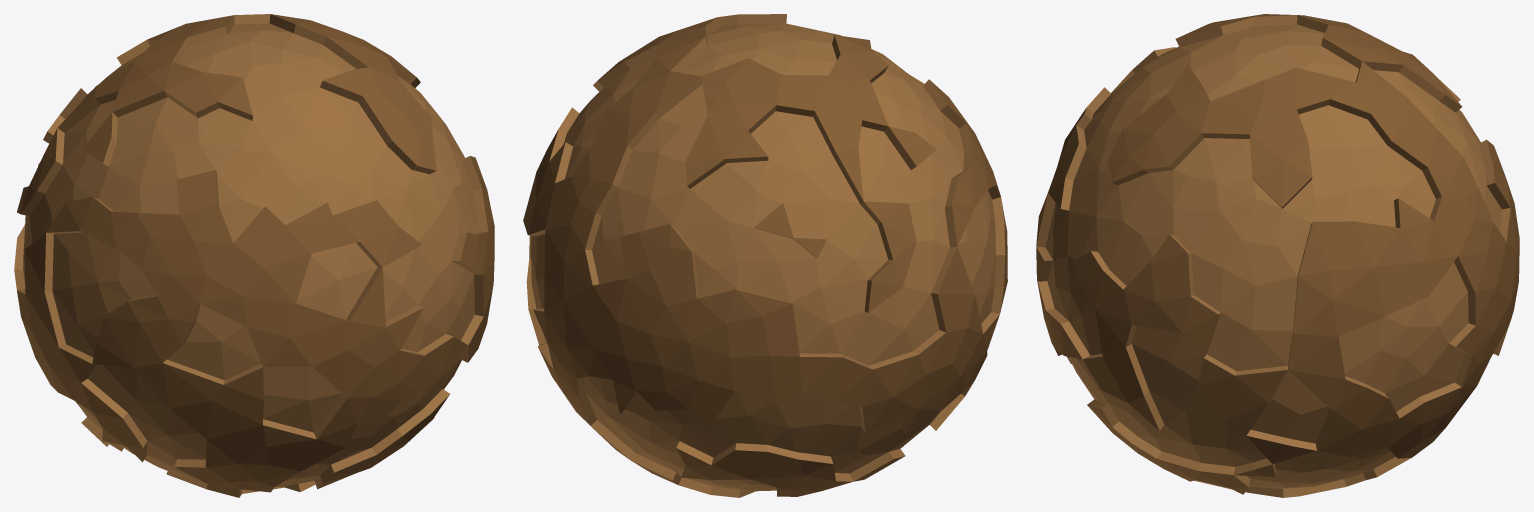
The model's file is PlanetDesert.fbx.
3 renders of one model, left to right at view 1: azimuth 30°, elevation 25°; view 2: azimuth 150°, elevation 25°; view 3: azimuth 270°, elevation 25°, orthographic.
Parts seen in each view (by area): view 1: Planet Desert; view 2: Planet Desert; view 3: Planet Desert.
Boxes of the visible parts, box(x1,y1,x2,y2) form: Planet Desert: box(14, 14, 494, 497); Planet Desert: box(523, 14, 1007, 497); Planet Desert: box(1036, 14, 1519, 497).
Bounding box in the file's own units: 209 × 207 × 208.
